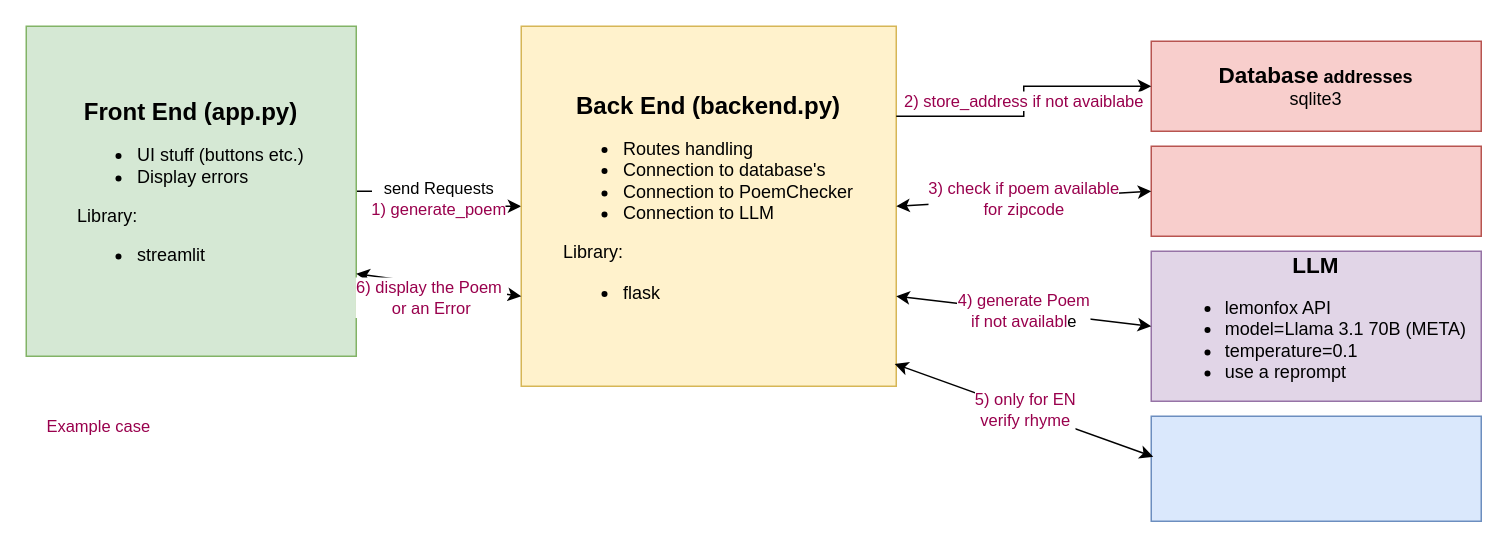
Image size: 1508x548. Some labels were removed from this diagram. Each missing label, with the centre of its shape:
"Database poems sqlite3" goes at point 1315,190.
"Verify cross ryhme Library: NLTK" goes at point 1315,468.
